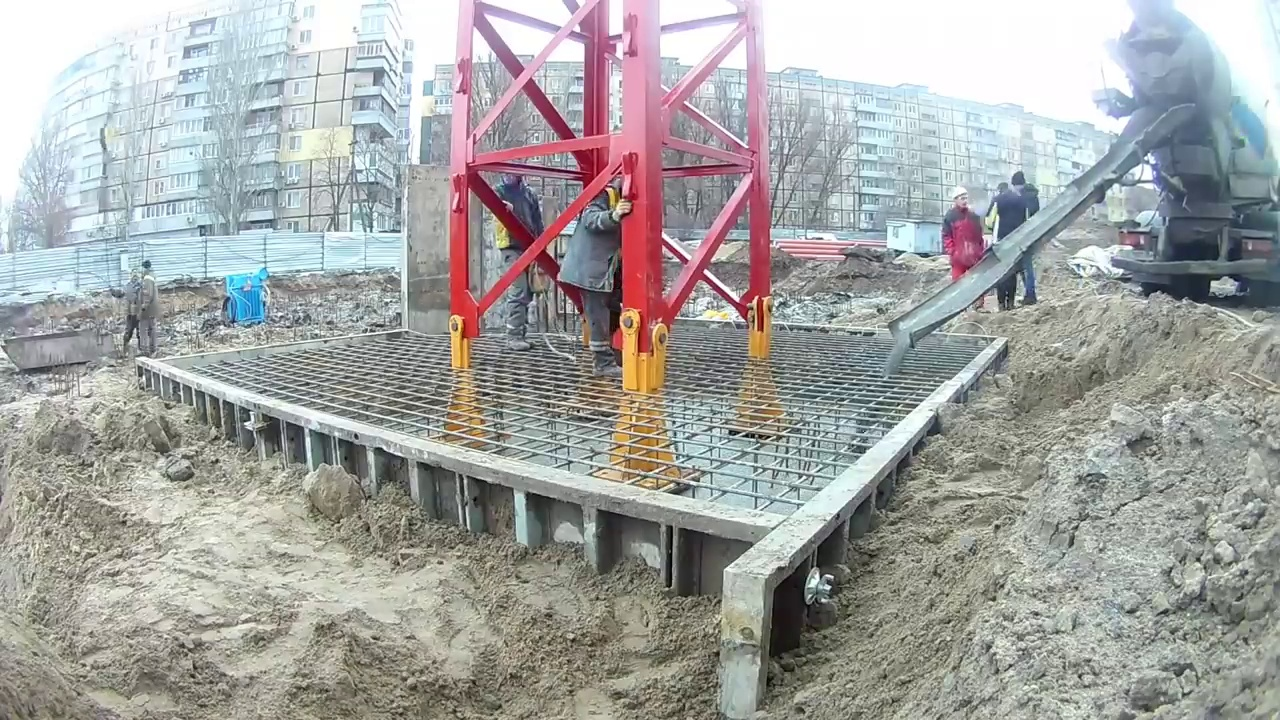helmet: (951, 188, 967, 201)
helmet-off: (1010, 175, 1028, 195), (994, 181, 1009, 201), (140, 259, 152, 279)
helmet-on: (950, 185, 970, 212), (128, 268, 141, 289)
person: (558, 164, 631, 379), (488, 171, 547, 351), (941, 184, 990, 315), (1010, 174, 1042, 306), (988, 181, 1014, 312), (109, 268, 141, 355), (136, 259, 157, 356)
